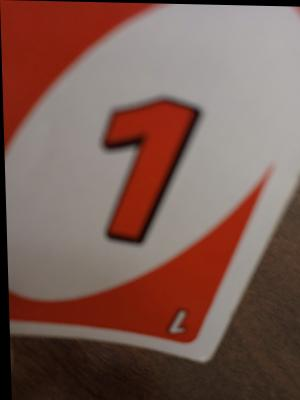num_1: (94, 85, 210, 259), (157, 299, 196, 345)
red: (0, 5, 300, 370)
